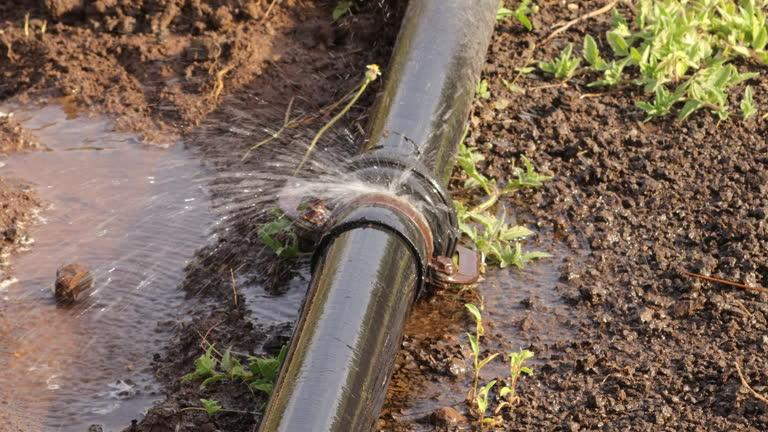pipe burst: (207, 114, 442, 231)
water accumulation: (0, 95, 582, 432)
